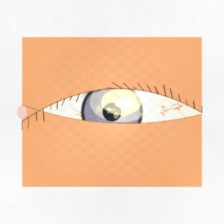corneal_ulcer: (88, 76, 154, 128)
